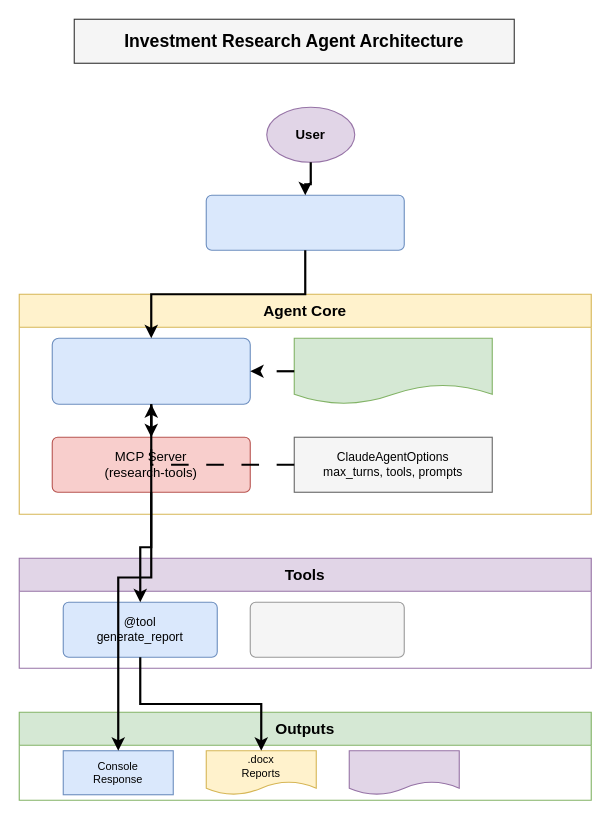
This 611x820 diagram has some shape labels left out. Here are the shapes that lost their labels. From the top down, the centre of each, then its label:
point (304, 222): CLI Interface (Interactive / One-shot)
point (150, 370): ClaudeSDKClient (Multi-turn with Memory)
point (392, 370): SYSTEM_PROMPT Investment Analyst Persona
point (326, 629): Future Tools (extensible)
point (403, 772): .drawio Diagrams
